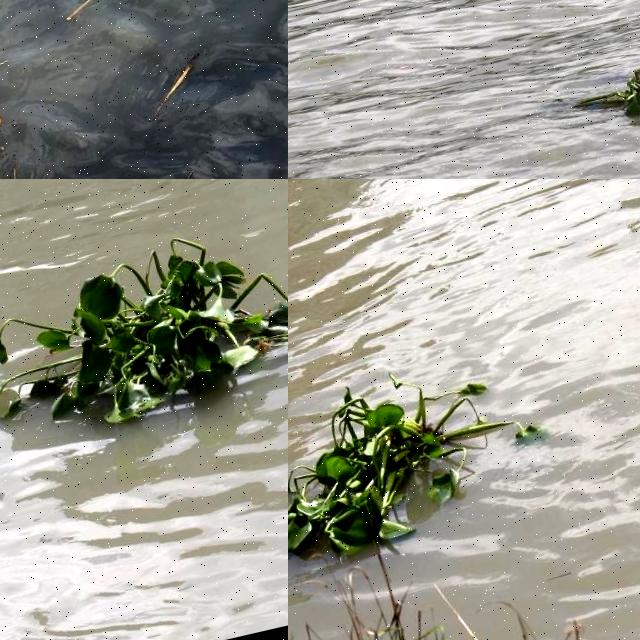water-hyacinth: (1, 236, 289, 445), (289, 382, 539, 567), (562, 66, 640, 121)
